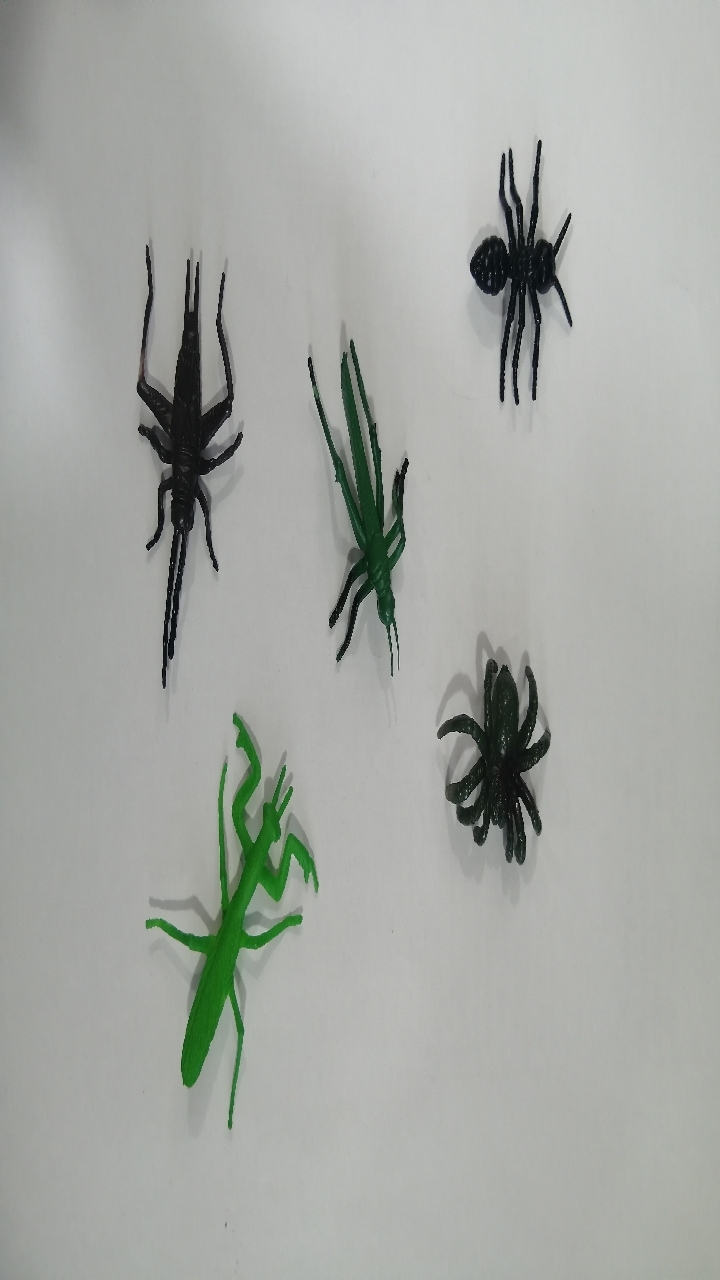intruso: (134, 709, 335, 1143), (89, 223, 261, 699), (280, 309, 421, 703), (446, 122, 604, 439), (418, 626, 578, 905)
